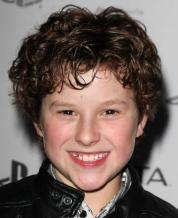face: (55, 101, 124, 169)
